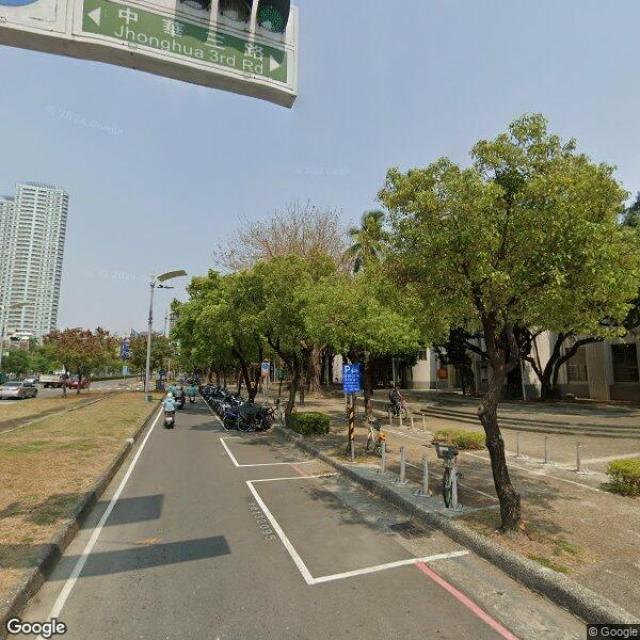Legalparking: (212, 390, 272, 433)
illegalparking: (156, 391, 186, 430)
